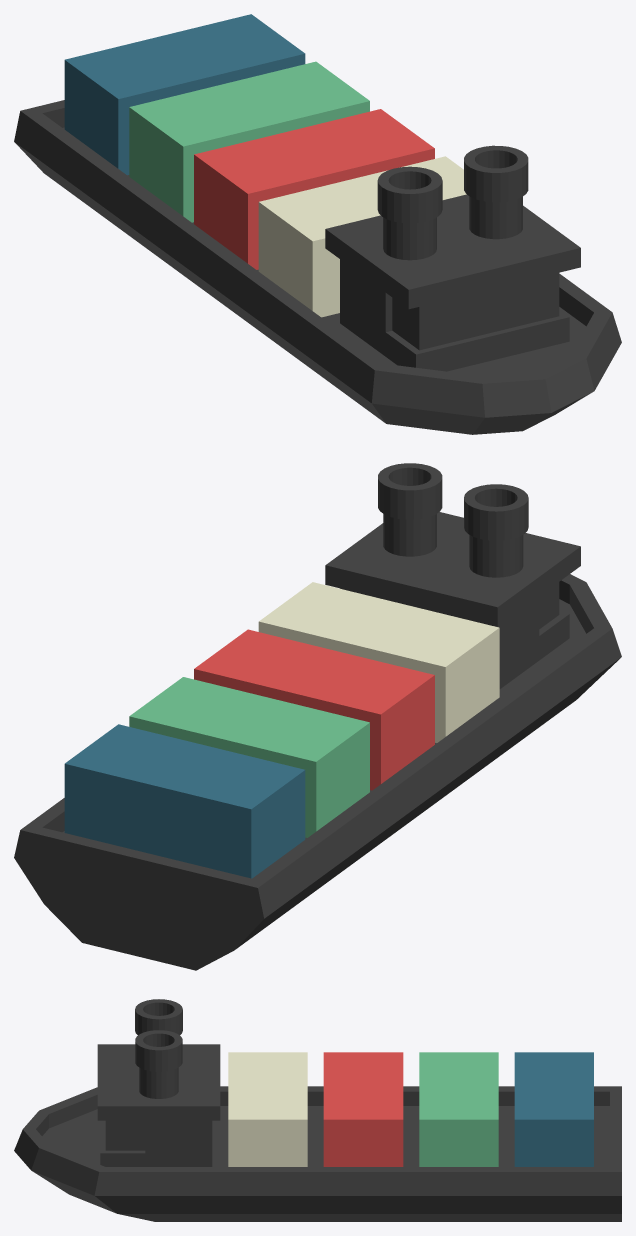
Rendered from watercraftpack_006.glb.
The picture shows the model from 3 angles, top to bottom: view 1: azimuth 30°, elevation 25°; view 2: azimuth 150°, elevation 25°; view 3: azimuth 270°, elevation 25°; orthographic projection. The views are drawn at different scales.
Parts seen in each view (by area): view 1: Mesh5 Group1 Model, Mesh1 Container_4 Group1 Model, Mesh3 Container_2 Group1 Model, Mesh4 Container_3 Group1 Model, Mesh2 Container_1 Group1 Model; view 2: Mesh5 Group1 Model, Mesh1 Container_4 Group1 Model, Mesh2 Container_1 Group1 Model, Mesh3 Container_2 Group1 Model, Mesh4 Container_3 Group1 Model; view 3: Mesh5 Group1 Model, Mesh3 Container_2 Group1 Model, Mesh1 Container_4 Group1 Model, Mesh2 Container_1 Group1 Model, Mesh4 Container_3 Group1 Model.
Part boxes in pixels (box(x1,y1,x2,y2)): Mesh5 Group1 Model: box(14, 100, 621, 434); Mesh1 Container_4 Group1 Model: box(64, 14, 305, 175); Mesh3 Container_2 Group1 Model: box(194, 109, 434, 269); Mesh4 Container_3 Group1 Model: box(129, 61, 369, 222); Mesh2 Container_1 Group1 Model: box(258, 156, 466, 317); Mesh5 Group1 Model: box(14, 463, 621, 970); Mesh1 Container_4 Group1 Model: box(64, 724, 305, 878); Mesh2 Container_1 Group1 Model: box(258, 582, 499, 742); Mesh3 Container_2 Group1 Model: box(194, 629, 434, 790); Mesh4 Container_3 Group1 Model: box(129, 677, 369, 837); Mesh5 Group1 Model: box(14, 999, 621, 1221); Mesh3 Container_2 Group1 Model: box(323, 1052, 403, 1166); Mesh1 Container_4 Group1 Model: box(514, 1052, 593, 1166); Mesh2 Container_1 Group1 Model: box(228, 1052, 307, 1166); Mesh4 Container_3 Group1 Model: box(419, 1052, 498, 1166).
Size of the model in its own units: 3.69 by 3.38 by 10.55.
